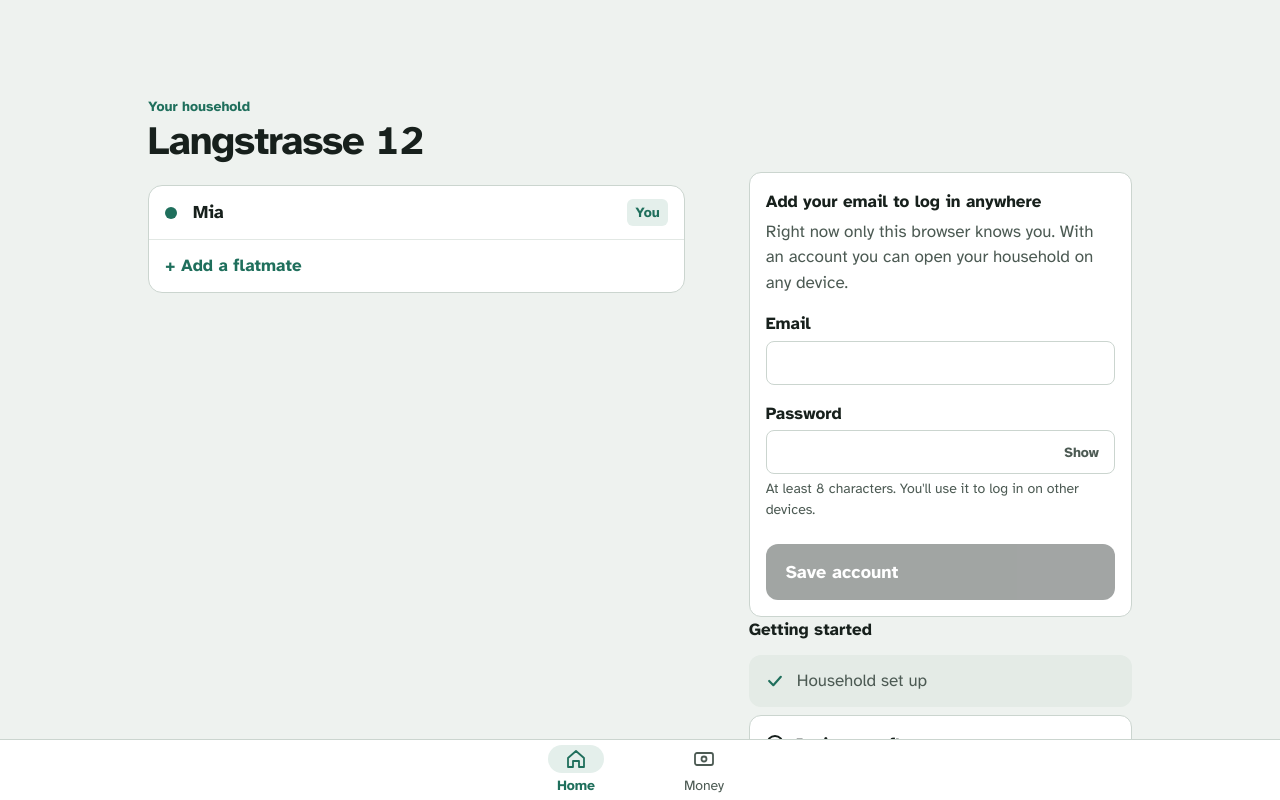
Test: accounts › asks a flatmate from before accounts to add an email, once
Expected: the heading "Add your email to log in anywhere" is shown, [766,191,1041,212]
Expected: the button "Log out" is not shown
Type "mia@example.com" into the field labelled "Email" at x=940, y=362, box [766,340,1115,384]
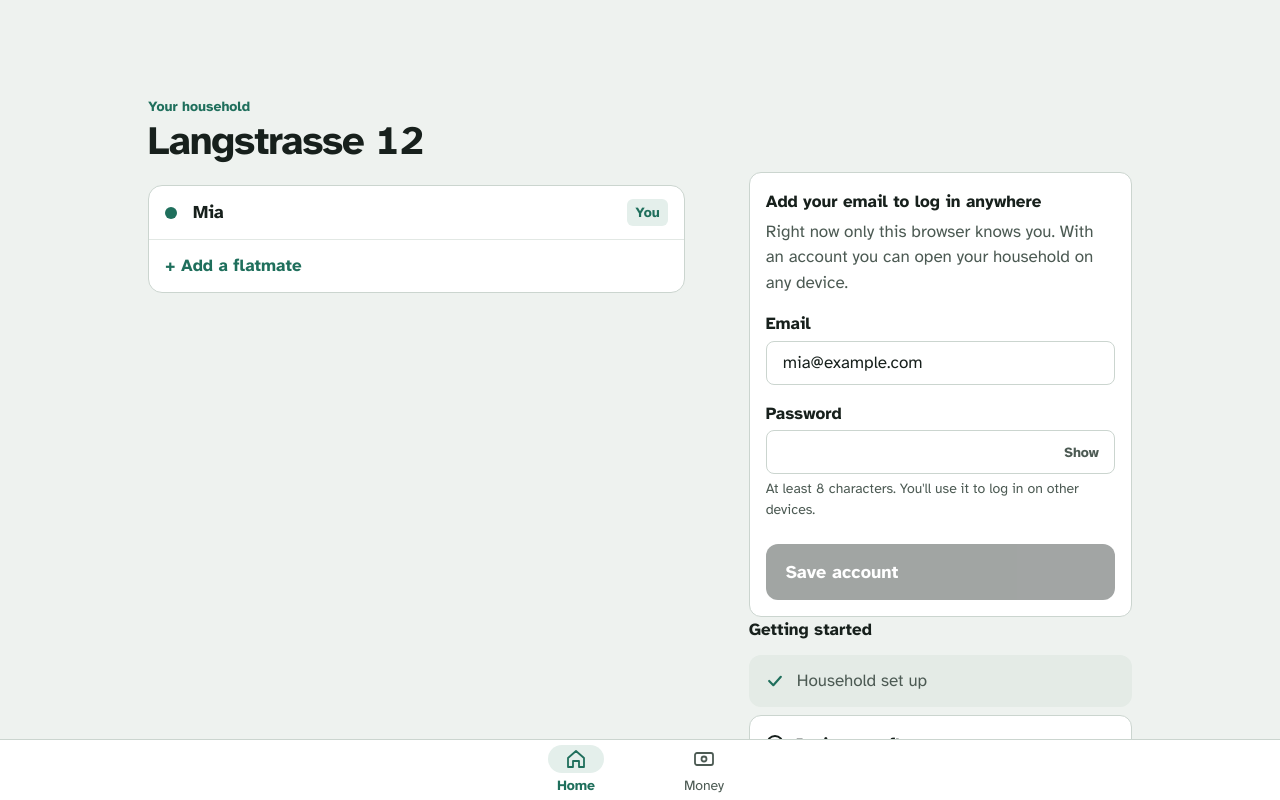
Type "correct horse battery" into the password field labelled "Password" at x=940, y=452, box [766,430,1115,474]
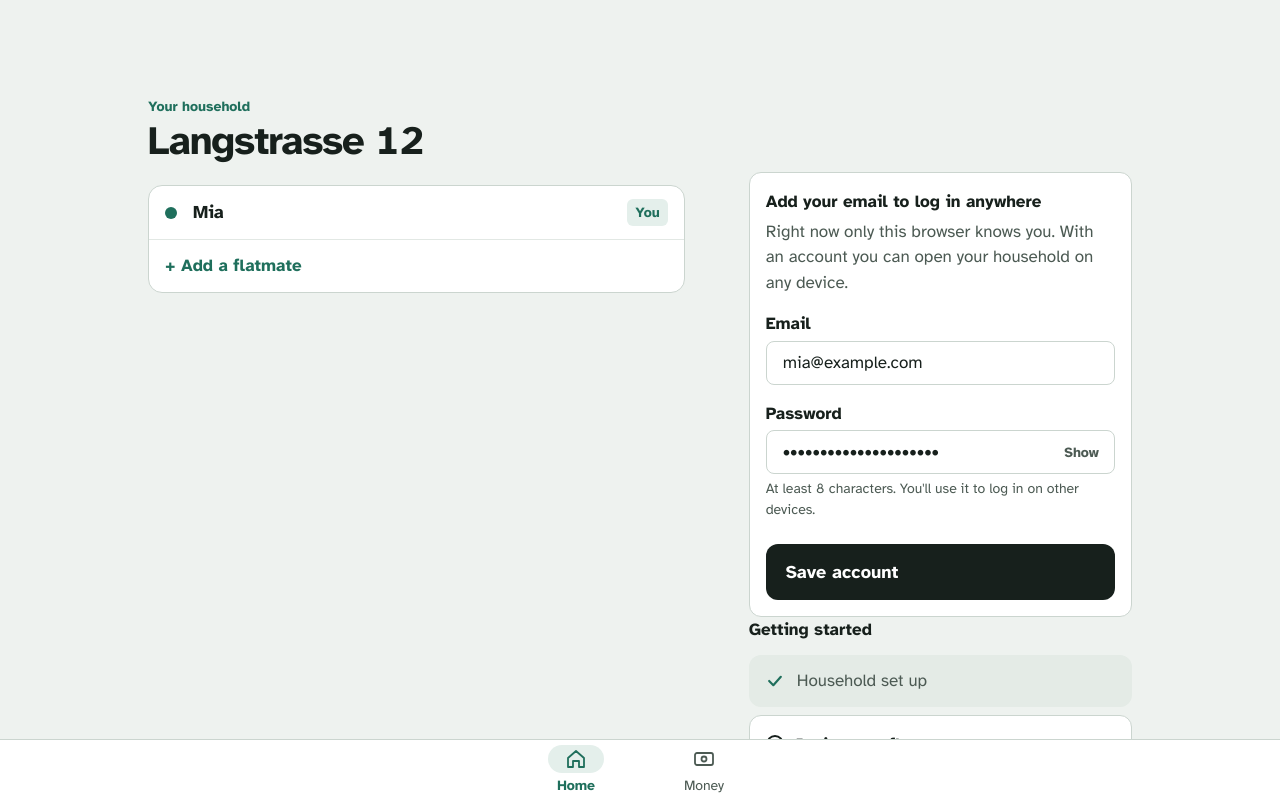
Click the button "Save account" at x=842, y=572, box [766,544,1115,600]
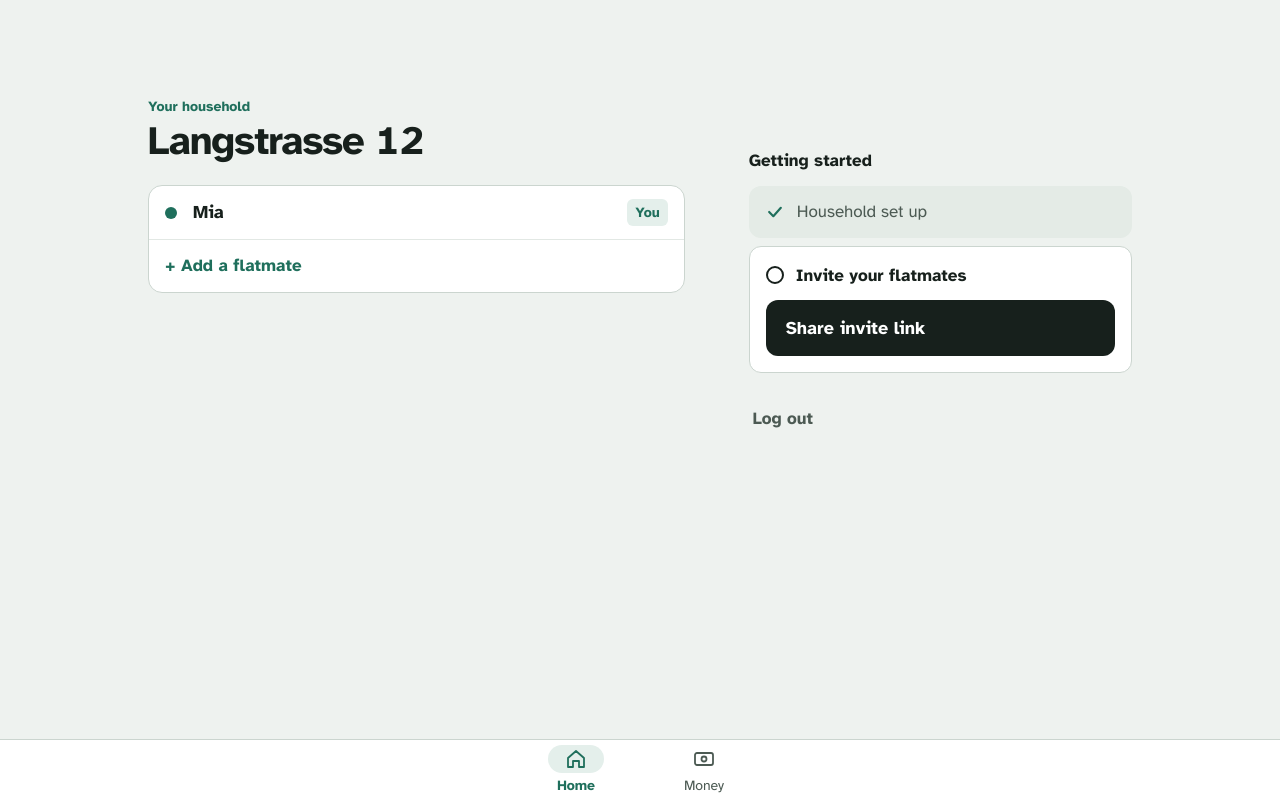
Expected: the button "Log out" is shown, [749,397,817,441]
Expected: the heading "Add your email to log in anywhere" is gone
